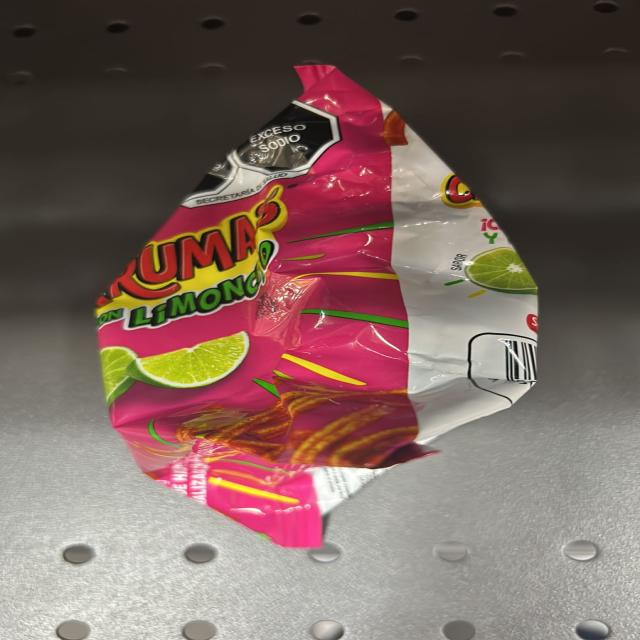churrumais: (101, 165, 399, 499)
